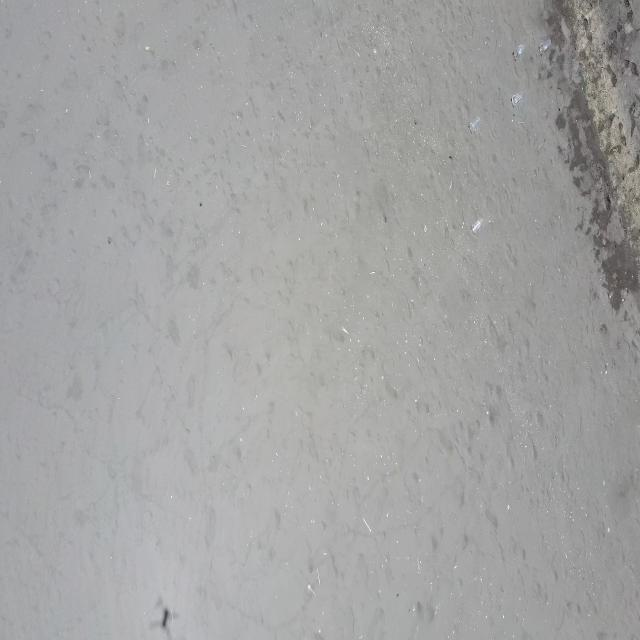Garbage: (537, 37, 550, 52), (512, 44, 524, 59), (467, 116, 479, 131), (471, 218, 483, 232), (512, 92, 522, 104)
